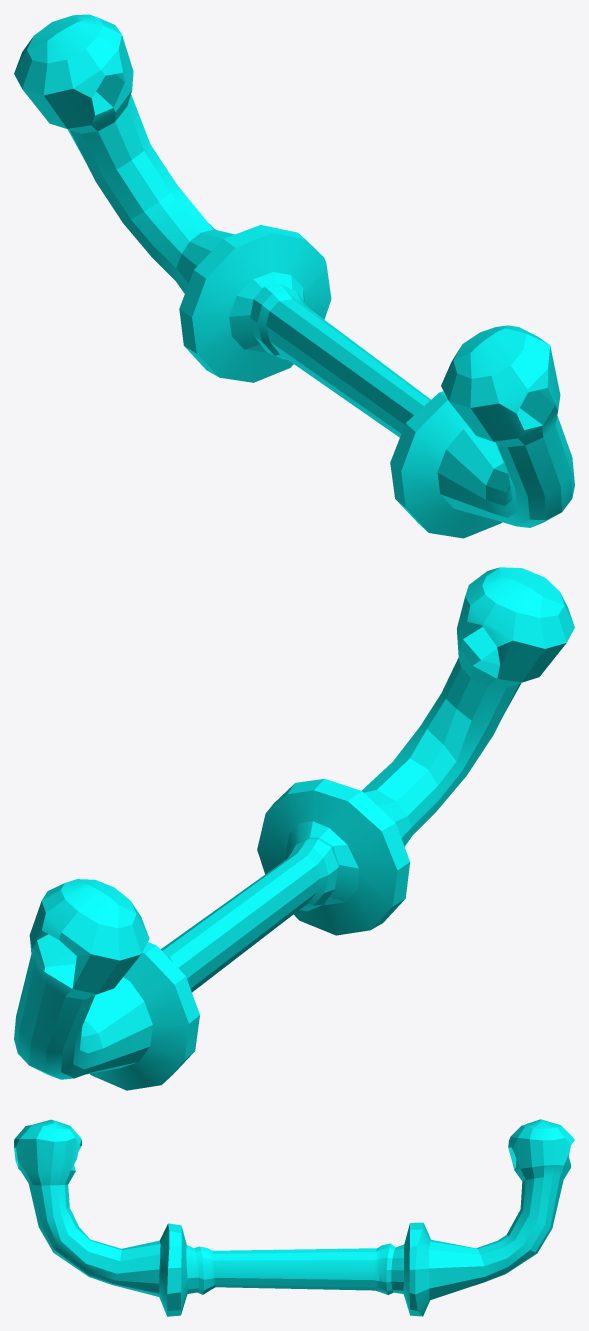
Rendered from poignee.fbx.
3 renders of one model, top to bottom at view 1: azimuth 30°, elevation 25°; view 2: azimuth 150°, elevation 25°; view 3: azimuth 270°, elevation 25°, orthographic. The views are drawn at different scales.
Visible parts, largest first — view 1: Kit1:KitCommunV6:Poignee; view 2: Kit1:KitCommunV6:Poignee; view 3: Kit1:KitCommunV6:Poignee.
Boxes of the visible parts, x1=… form: Kit1:KitCommunV6:Poignee: x1=14, y1=14, x2=574, y2=538; Kit1:KitCommunV6:Poignee: x1=14, y1=567, x2=574, y2=1090; Kit1:KitCommunV6:Poignee: x1=14, y1=1119, x2=574, y2=1316.
Size of the model in its own units: 12.13 by 17.21 by 51.29.
